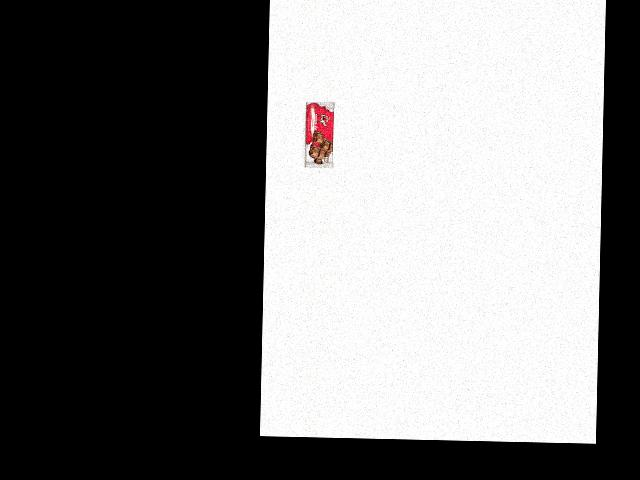chocolate: (288, 90, 331, 169)
